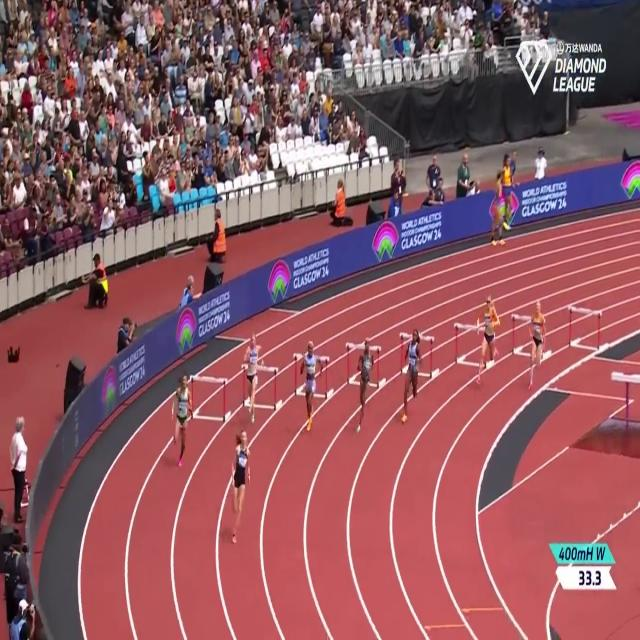athlete: (473, 291, 503, 390), (230, 415, 252, 546), (296, 340, 325, 436), (242, 326, 266, 434), (400, 325, 423, 435), (171, 369, 195, 468), (354, 333, 376, 436), (525, 293, 544, 393)
hurdle: (188, 370, 232, 422), (453, 313, 493, 369), (343, 335, 383, 391), (291, 345, 331, 400), (242, 358, 281, 410), (398, 330, 436, 382), (509, 307, 543, 362), (568, 306, 602, 358)
